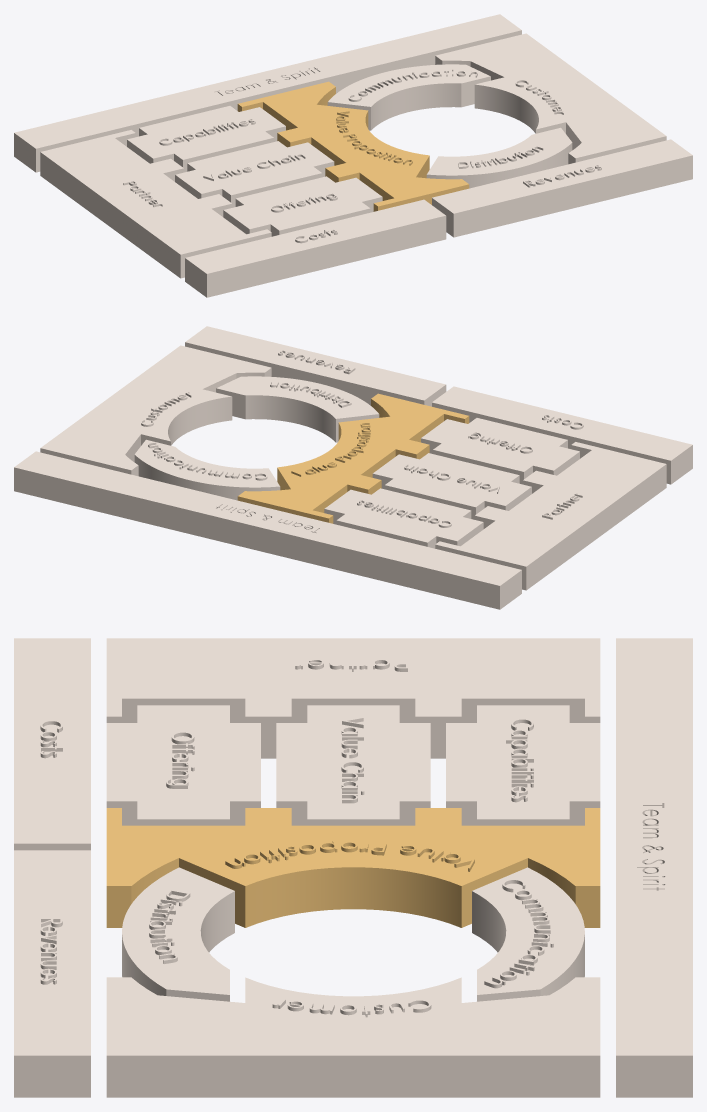
File: 20250811_Canvas_glb.glb
3 renders of one model, top to bottom at view 1: azimuth 30°, elevation 25°; view 2: azimuth 150°, elevation 25°; view 3: azimuth 270°, elevation 25°, orthographic. The views are drawn at different scales.
Visible parts, largest first — view 1: 20250730_Partner-1, 20250730_Team-1, 20250730_Customer-1, 20250730_Costs-1, 20250730_Revenues-1, 20250730_Value Proposition_v3-1, 20250730_Value Chain-1, 20250730_Capabilities-1, 20250730_Offering-1, 20250730_Communication-1, 20250730_Distribution-1; view 2: 20250730_Team-1, 20250730_Partner-1, 20250730_Customer-1, 20250730_Value Proposition_v3-1, 20250730_Revenues-1, 20250730_Costs-1, 20250730_Value Chain-1, 20250730_Offering-1, 20250730_Capabilities-1, 20250730_Distribution-1, 20250730_Communication-1; view 3: 20250730_Customer-1, 20250730_Value Proposition_v3-1, 20250730_Partner-1, 20250730_Team-1, 20250730_Revenues-1, 20250730_Value Chain-1, 20250730_Offering-1, 20250730_Capabilities-1, 20250730_Costs-1, 20250730_Distribution-1, 20250730_Communication-1.
Boxes of the visible parts, x1,y1,x2,y2 form: 20250730_Partner-1: (40, 130, 271, 278); 20250730_Team-1: (14, 14, 521, 172); 20250730_Customer-1: (435, 33, 666, 164); 20250730_Costs-1: (185, 199, 446, 297); 20250730_Revenues-1: (432, 139, 692, 237); 20250730_Value Proposition_v3-1: (237, 81, 469, 211); 20250730_Value Chain-1: (175, 141, 334, 207); 20250730_Capabilities-1: (127, 106, 285, 172); 20250730_Offering-1: (223, 176, 382, 236); 20250730_Communication-1: (327, 64, 490, 130); 20250730_Distribution-1: (426, 127, 572, 188); 20250730_Team-1: (14, 451, 521, 609); 20250730_Partner-1: (435, 442, 666, 590); 20250730_Customer-1: (40, 345, 271, 476); 20250730_Value Proposition_v3-1: (237, 393, 469, 523); 20250730_Revenues-1: (185, 326, 446, 406); 20250730_Costs-1: (432, 386, 692, 484); 20250730_Value Chain-1: (372, 453, 531, 519); 20250730_Offering-1: (421, 418, 579, 484); 20250730_Capabilities-1: (324, 488, 483, 548); 20250730_Distribution-1: (216, 376, 379, 442); 20250730_Communication-1: (134, 439, 280, 500); 20250730_Customer-1: (106, 977, 600, 1097); 20250730_Value Proposition_v3-1: (106, 808, 600, 927); 20250730_Partner-1: (106, 638, 600, 758); 20250730_Team-1: (616, 638, 692, 1097); 20250730_Revenues-1: (14, 850, 90, 1097); 20250730_Value Chain-1: (276, 705, 430, 825); 20250730_Offering-1: (106, 705, 260, 825); 20250730_Capabilities-1: (446, 705, 600, 825); 20250730_Costs-1: (14, 638, 90, 850); 20250730_Distribution-1: (122, 867, 234, 1001); 20250730_Communication-1: (472, 867, 584, 1001).
Size of the model in its own units: 1.28 by 0.065 by 0.88.
